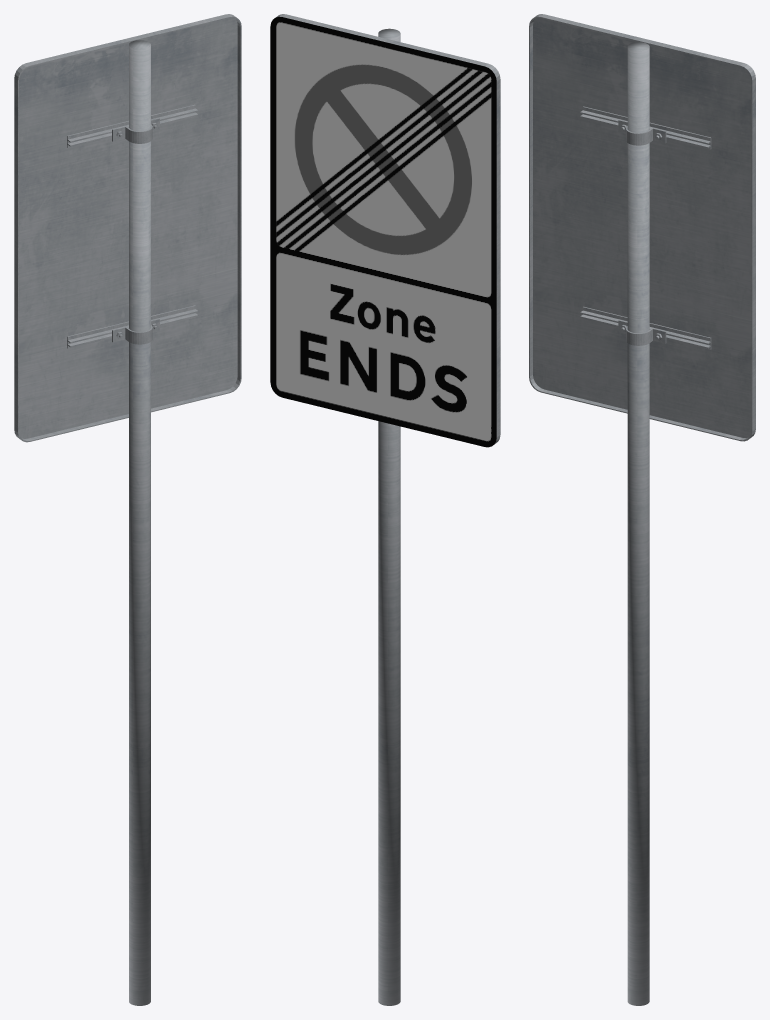
Rendered from End_of_controlled_parking_zone.fbx.
3 views of the same model, side by side, from view 1: azimuth 30°, elevation 25°; view 2: azimuth 150°, elevation 25°; view 3: azimuth 330°, elevation 25° (orthographic).
Visible parts, largest first — view 1: End of controlled parking zone; view 2: End of controlled parking zone; view 3: End of controlled parking zone.
Part boxes in pixels (bbox=[...]): End of controlled parking zone: bbox=[14, 14, 241, 1005]; End of controlled parking zone: bbox=[270, 14, 500, 1005]; End of controlled parking zone: bbox=[529, 14, 755, 1005].
Size of the model in its own units: 0.0875 by 0.7 by 2.86.
